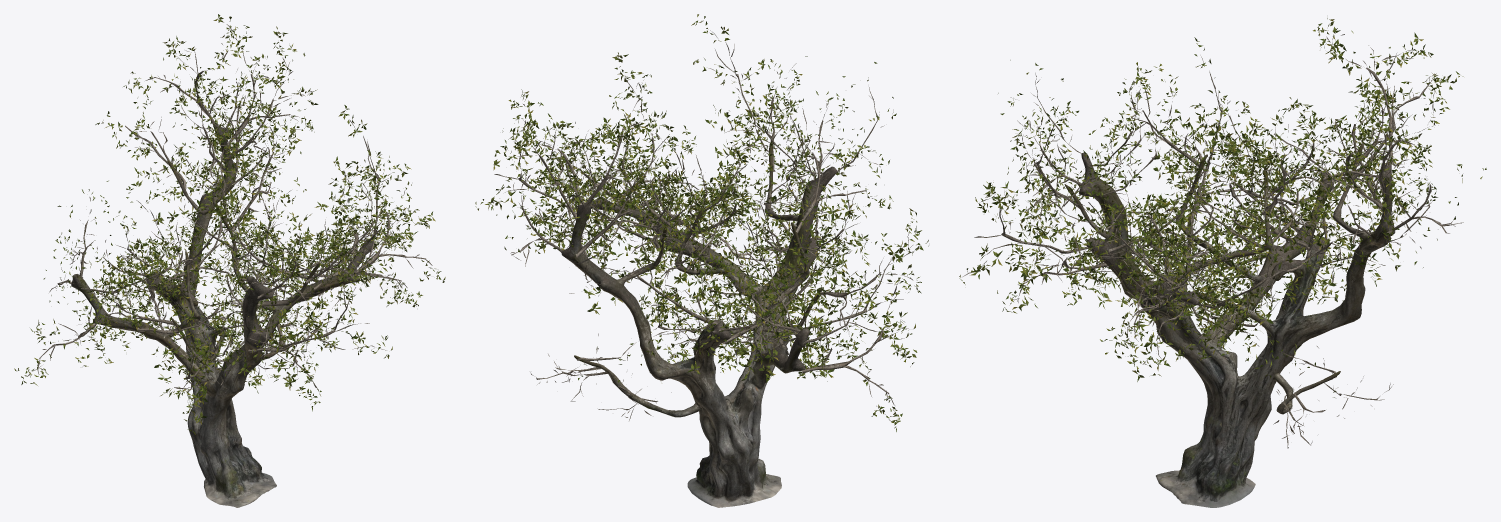
Rendered from cay-ven-bien.glb.
3 views of the same model, side by side, from view 1: azimuth 30°, elevation 25°; view 2: azimuth 150°, elevation 25°; view 3: azimuth 270°, elevation 25° (orthographic). The views are drawn at different scales.
Visible parts, largest first — view 1: island_tree_01_LOD0; view 2: island_tree_01_LOD0; view 3: island_tree_01_LOD0.
Part boxes in pixels (x1,y1,x2,y2): island_tree_01_LOD0: (14, 14, 445, 507); island_tree_01_LOD0: (475, 14, 928, 507); island_tree_01_LOD0: (959, 18, 1486, 507).
Bounding box in the file's own units: 0.9349 × 0.9921 × 0.9498.
3 materials, 3 textured.
